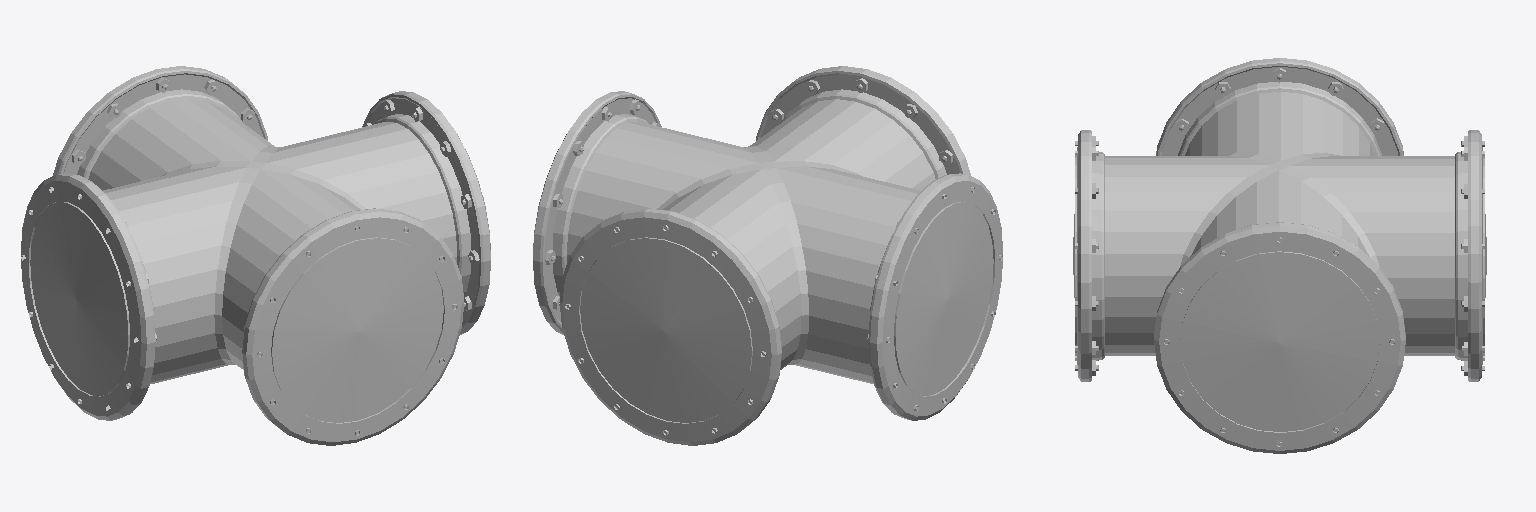
The model's file is pipe_cross.obj.
3 views of the same model, side by side, from view 1: azimuth 30°, elevation 25°; view 2: azimuth 150°, elevation 25°; view 3: azimuth 270°, elevation 25° (orthographic).
Parts seen in each view (by area): view 1: ind_pipe_large_01_crossing_01_inst_001_Mesh.023; view 2: ind_pipe_large_01_crossing_01_inst_001_Mesh.023; view 3: ind_pipe_large_01_crossing_01_inst_001_Mesh.023.
Boxes of the visible parts, x1,y1,x2,y2 form: ind_pipe_large_01_crossing_01_inst_001_Mesh.023: [21, 66, 490, 445]; ind_pipe_large_01_crossing_01_inst_001_Mesh.023: [533, 66, 1002, 445]; ind_pipe_large_01_crossing_01_inst_001_Mesh.023: [1073, 58, 1486, 453].
Bounding box in the file's own units: 1.01 × 0.6153 × 1.01.